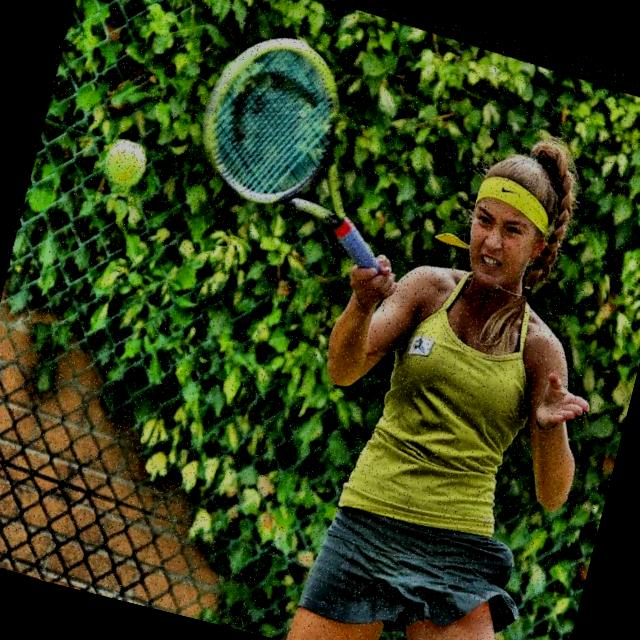tennis-ball: (98, 135, 158, 195)
